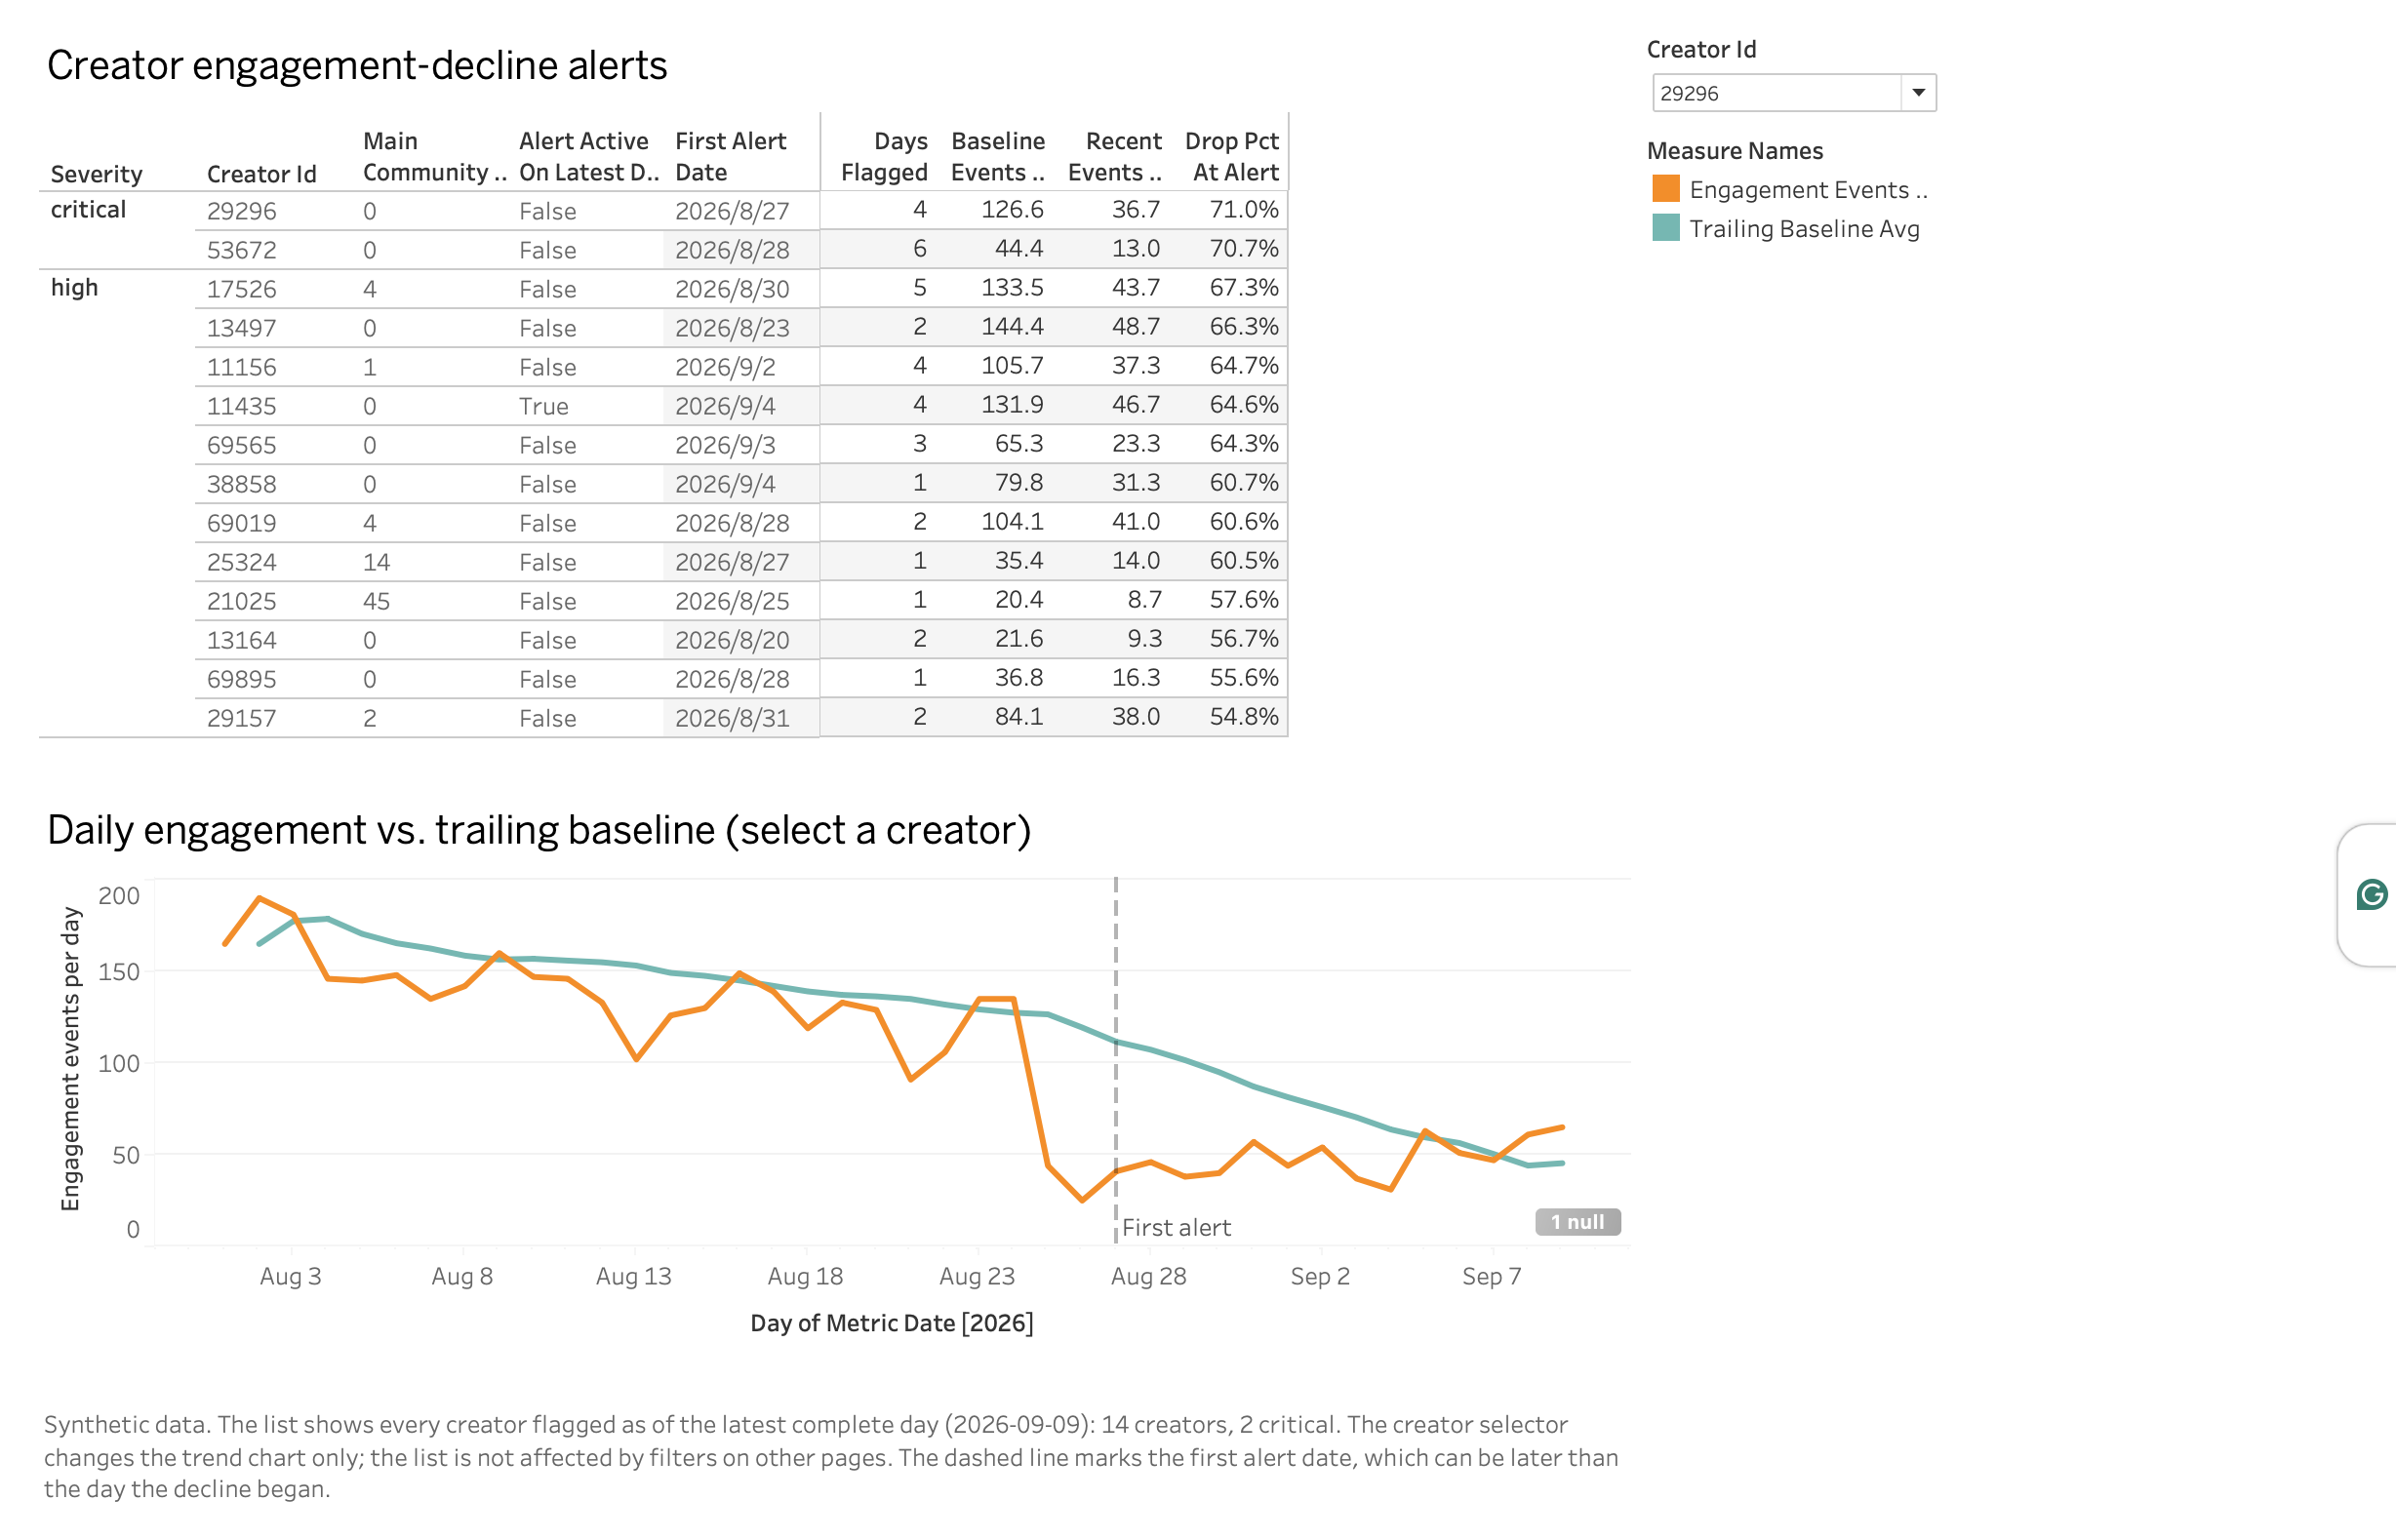

The dashboard page shown, as its layout file describes it:
{"tool":"tableau","page":{"name":"3 Creator Alerts","canvas":[1000,800],"ordinal":2},"visuals":[{"type":"worksheet","title":"Alert list","mark":"Text","rows":["severity","creator_id","main_community_id","alert_active_on_latest_day","first_alert_date"],"box":[8,8,824,392]},{"type":"filter","title":"Creator trend","param":"[federated.1e2oqtw1r6fomc13nctv50dgj6pn].[none:creator_id:ok]","box":[832,8,160,52]},{"type":"legend","title":"Creator trend","param":"[federated.1e2oqtw1r6fomc13nctv50dgj6pn].[:Measure Names]","box":[832,60,160,66]},{"type":"worksheet","title":"Creator trend","mark":"Line","cols":["metric_date"],"box":[8,400,824,293]},{"type":"text","box":[8,693,824,99]}]}

Visuals, with their boxes on the page's 1000x800 design canvas (x1, y1, x2, y2). These are canvas units, not pixel positions in the 2396x1540 screenshot, which may show the page scaled, cropped or inside an application window:
"Alert list" worksheet (Text marks): [8, 8, 832, 400]
"Creator trend" filter: [832, 8, 992, 60]
"Creator trend" legend: [832, 60, 992, 126]
"Creator trend" worksheet (Line marks): [8, 400, 832, 693]
text: [8, 693, 832, 792]
